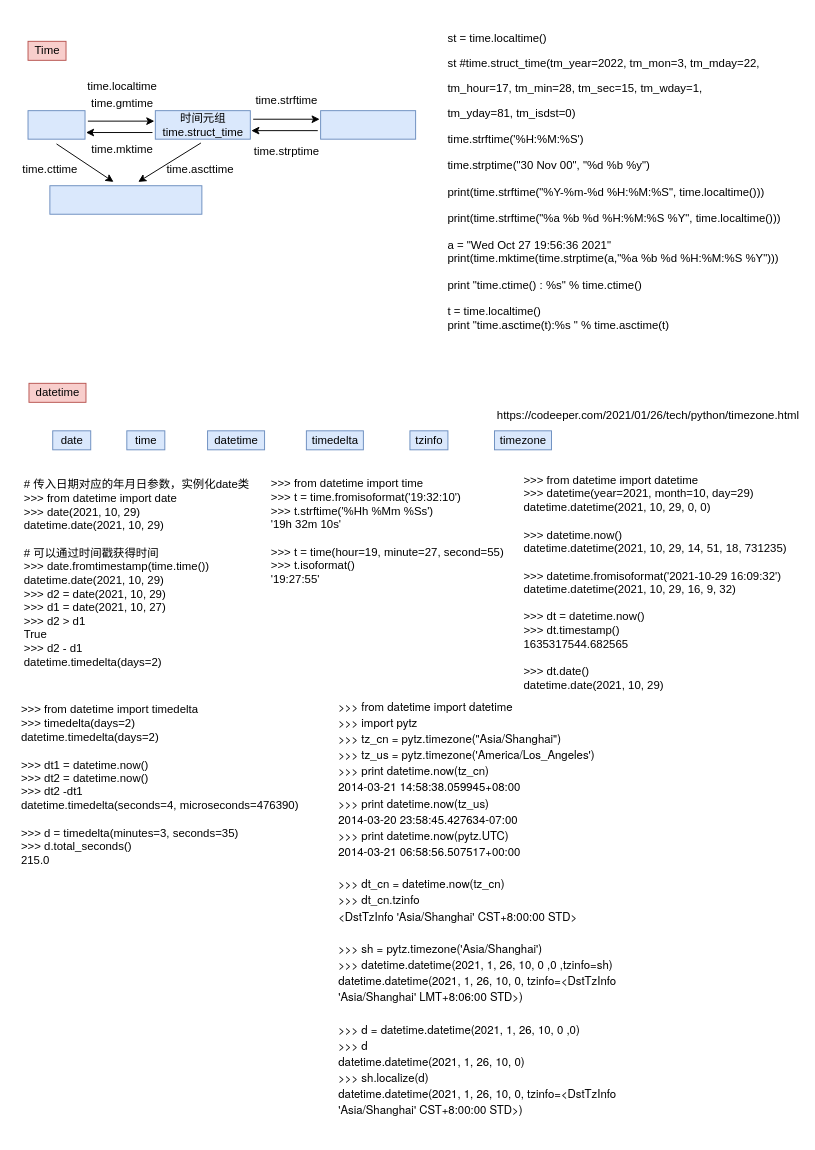
This 815x1150 diagram has some shape labels left out. The centre of each missing label's shape, as x and y in pixels:
"时间戳 time.time" belongs at point 56,124.
"特殊显示 Wed Mar 20 00:00:00 2019" belongs at point 125,199.
"自定义格式 '%Y-%m-%d%X'" belongs at point 368,124.
